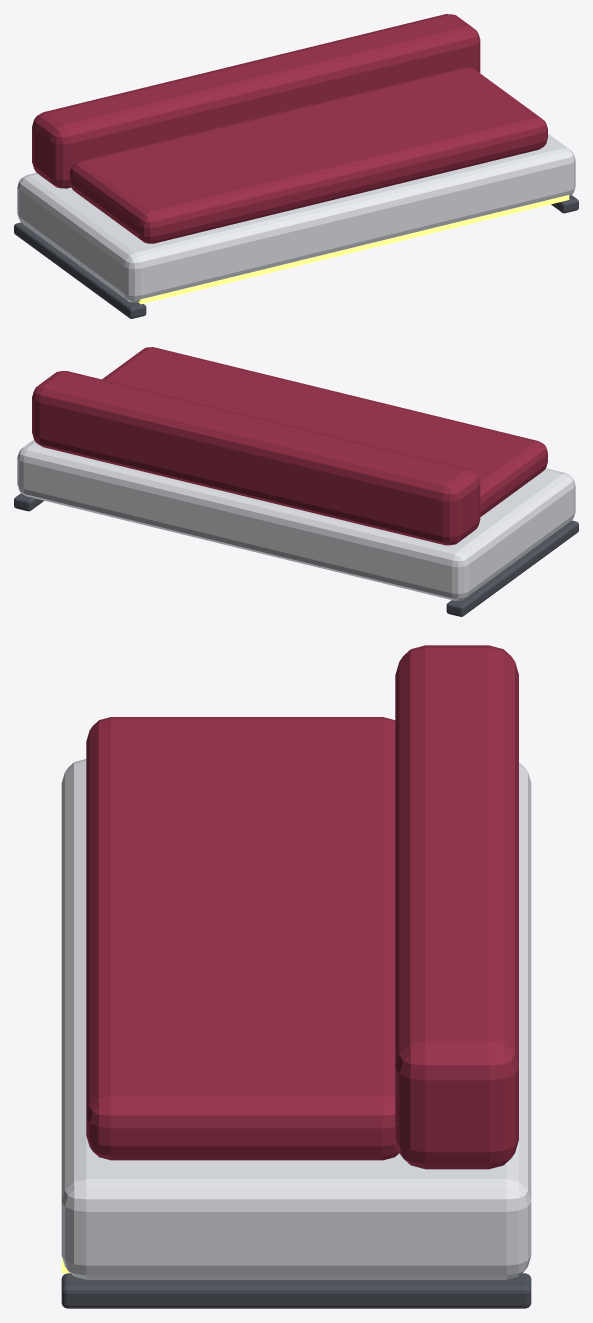
File: sofa_lounge_low.glb
3 renders of one model, top to bottom at view 1: azimuth 30°, elevation 25°; view 2: azimuth 150°, elevation 25°; view 3: azimuth 270°, elevation 25°, orthographic. The views are drawn at different scales.
Visible parts, largest first — view 1: GD_sofa_lounge_low__m1, GD_sofa_lounge_low__m0, GD_sofa_lounge_low__m3, GD_sofa_lounge_low__m2; view 2: GD_sofa_lounge_low__m1, GD_sofa_lounge_low__m0, GD_sofa_lounge_low__m3; view 3: GD_sofa_lounge_low__m1, GD_sofa_lounge_low__m0, GD_sofa_lounge_low__m3.
Boxes of the visible parts, bbox=[...] form: GD_sofa_lounge_low__m1: bbox=[32, 14, 547, 243]; GD_sofa_lounge_low__m0: bbox=[17, 134, 575, 302]; GD_sofa_lounge_low__m3: bbox=[14, 195, 578, 318]; GD_sofa_lounge_low__m2: bbox=[138, 195, 569, 304]; GD_sofa_lounge_low__m1: bbox=[32, 347, 547, 545]; GD_sofa_lounge_low__m0: bbox=[17, 440, 575, 600]; GD_sofa_lounge_low__m3: bbox=[14, 493, 578, 616]; GD_sofa_lounge_low__m1: bbox=[86, 645, 518, 1169]; GD_sofa_lounge_low__m0: bbox=[61, 759, 531, 1279]; GD_sofa_lounge_low__m3: bbox=[61, 1273, 531, 1308].
Bounding box in the file's own units: 2.1 × 0.55 × 0.95.
